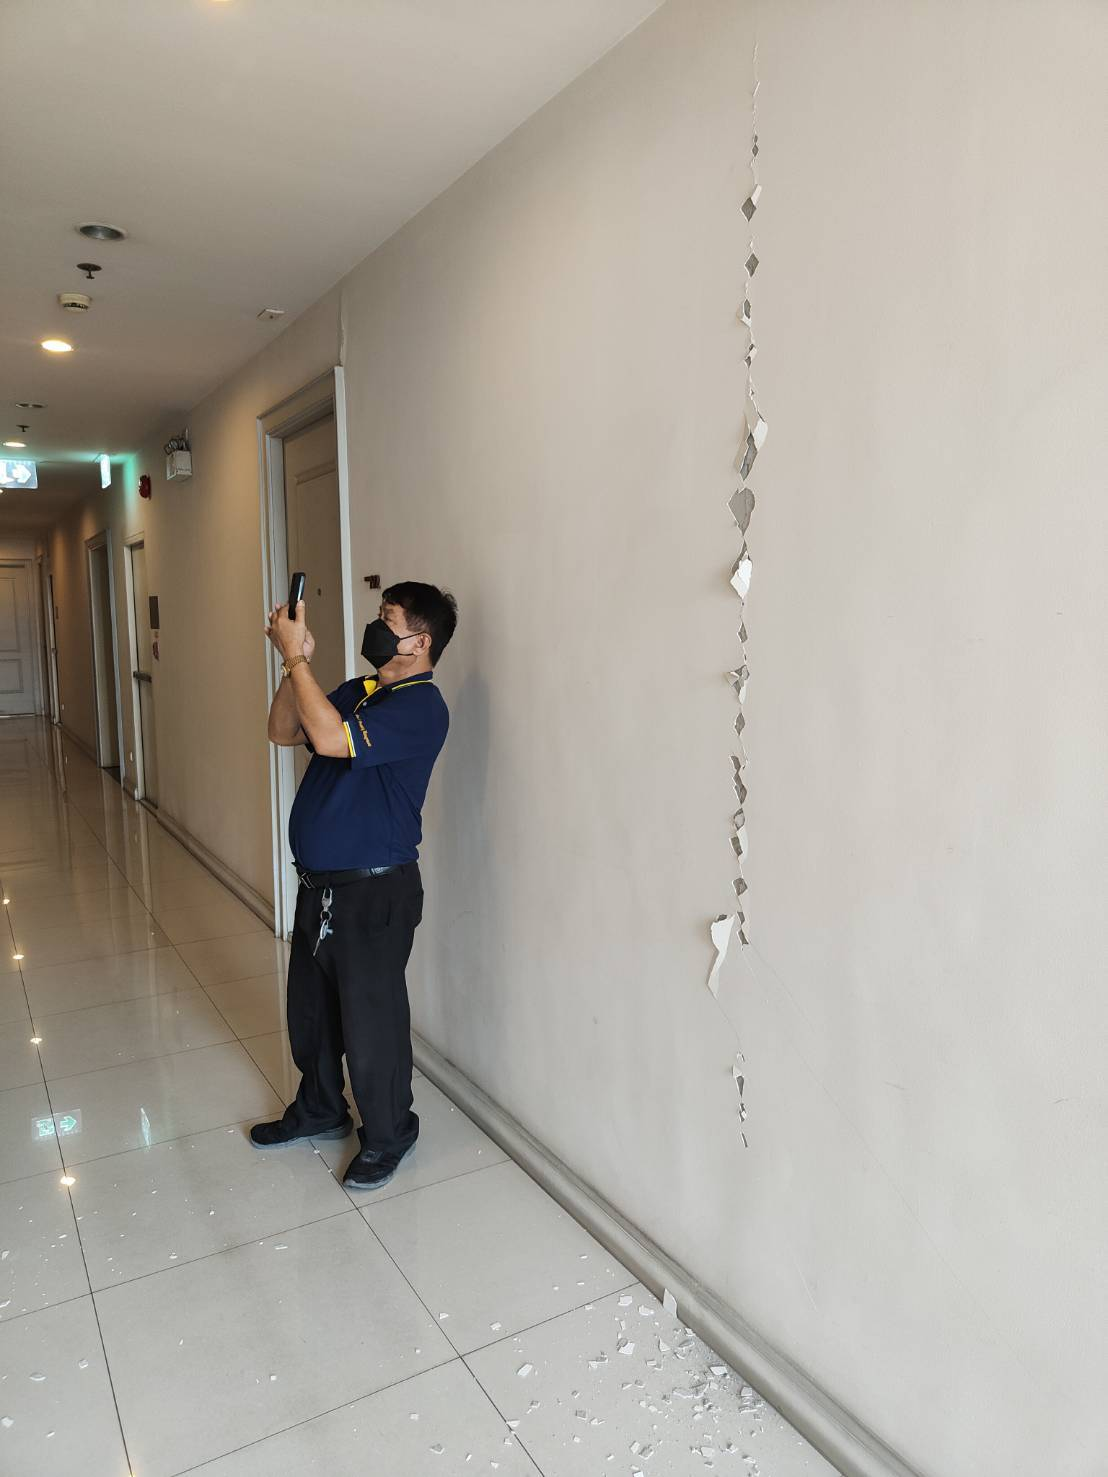Medium: (658, 139, 834, 1194)
